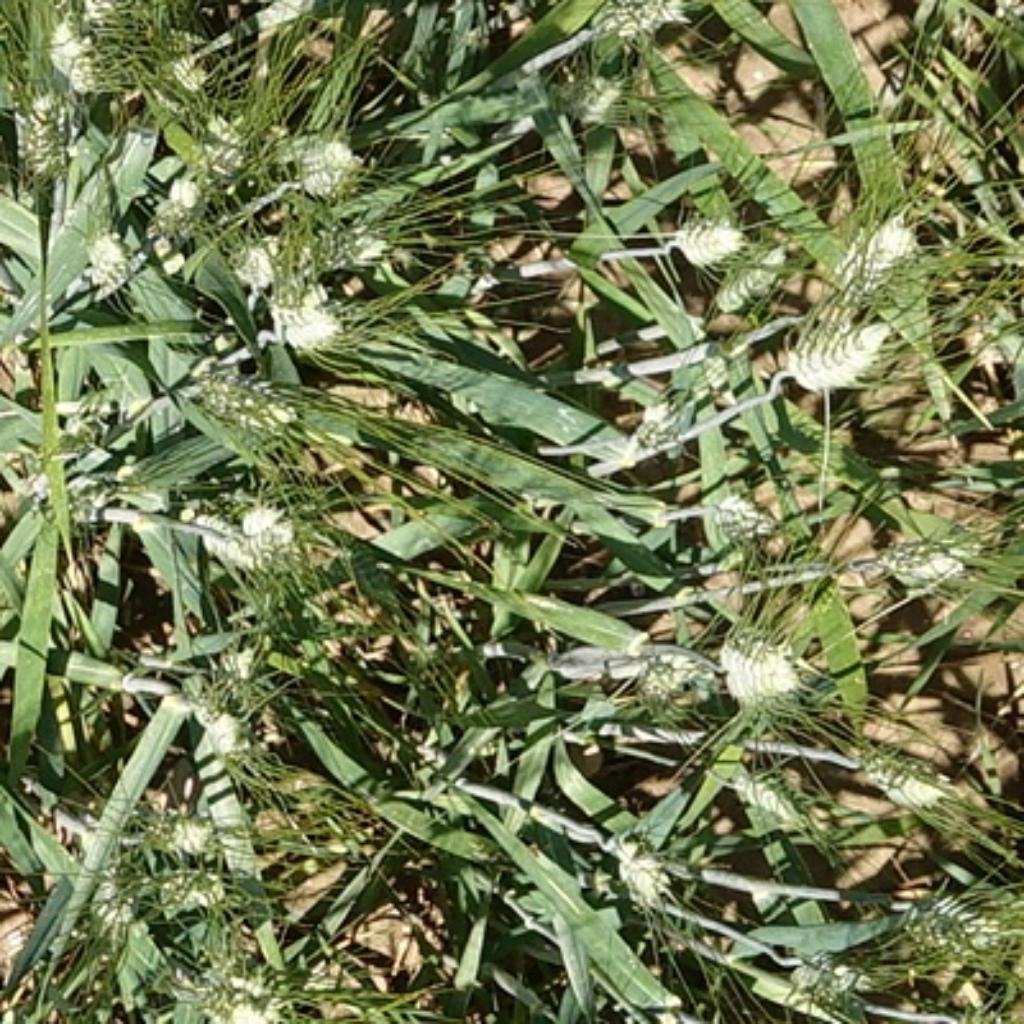0-0: (865, 486, 1008, 596), (181, 634, 296, 760), (197, 491, 335, 588), (168, 934, 312, 1024), (815, 193, 927, 306), (880, 875, 1008, 967), (185, 362, 303, 460), (770, 926, 896, 1016), (842, 714, 960, 806), (711, 611, 811, 714), (770, 302, 888, 386), (133, 785, 261, 862), (273, 212, 407, 281), (5, 66, 81, 181), (263, 273, 355, 366), (532, 51, 632, 128), (944, 273, 1021, 373), (624, 627, 714, 711), (271, 115, 363, 197), (686, 473, 778, 552), (145, 151, 230, 235), (624, 371, 711, 453), (148, 151, 227, 240), (706, 230, 796, 307), (721, 752, 811, 826), (148, 17, 220, 107), (596, 821, 675, 903), (194, 92, 273, 174), (66, 849, 143, 929), (28, 23, 112, 92), (663, 199, 747, 263), (148, 860, 238, 919), (581, 0, 691, 43), (76, 215, 135, 286), (220, 222, 286, 284), (225, 225, 281, 284), (66, 0, 133, 33)
